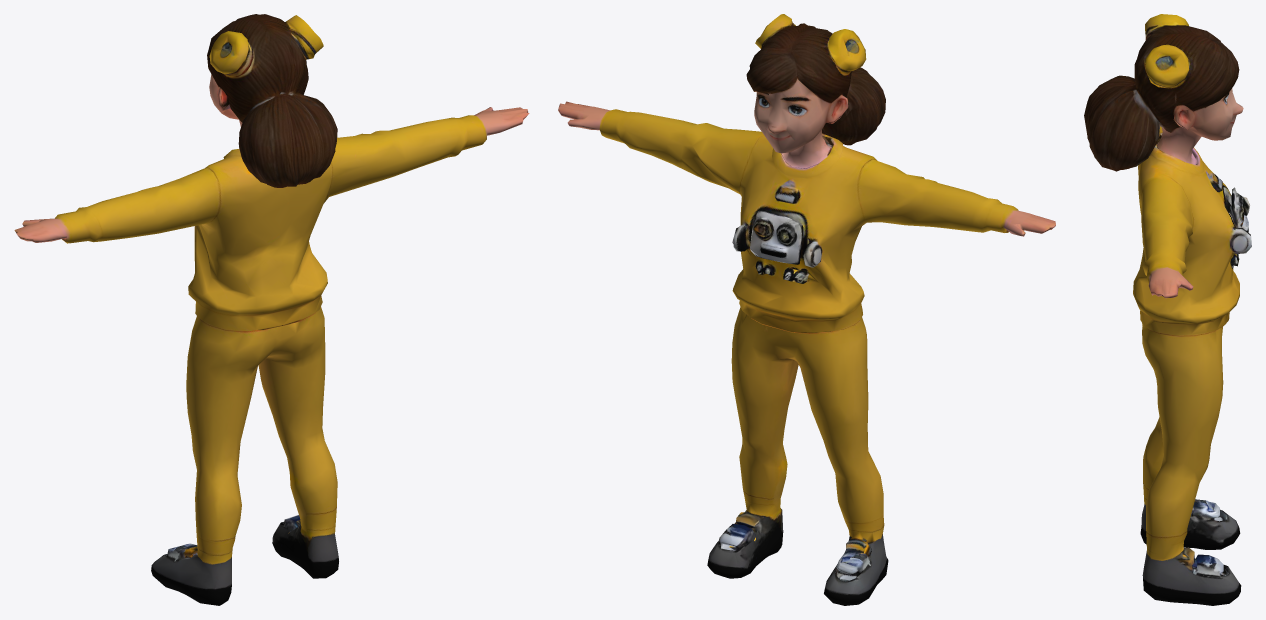
3 renders of one model, left to right at view 1: azimuth 30°, elevation 25°; view 2: azimuth 150°, elevation 25°; view 3: azimuth 270°, elevation 25°, orthographic. The views are drawn at different scales.
Parts seen in each view (by area): view 1: tripo_node_1a038160-d538-4d4b-b9c2-7af718f5d551; view 2: tripo_node_1a038160-d538-4d4b-b9c2-7af718f5d551; view 3: tripo_node_1a038160-d538-4d4b-b9c2-7af718f5d551.
Part boxes in pixels (<box>): tripo_node_1a038160-d538-4d4b-b9c2-7af718f5d551: <box>14,14,529,605</box>; tripo_node_1a038160-d538-4d4b-b9c2-7af718f5d551: <box>558,14,1055,605</box>; tripo_node_1a038160-d538-4d4b-b9c2-7af718f5d551: <box>1084,14,1251,605</box>.
Size of what is drawn, in the model's own units: 0.9548 by 1 by 0.2799.
1 material, 1 textured.
